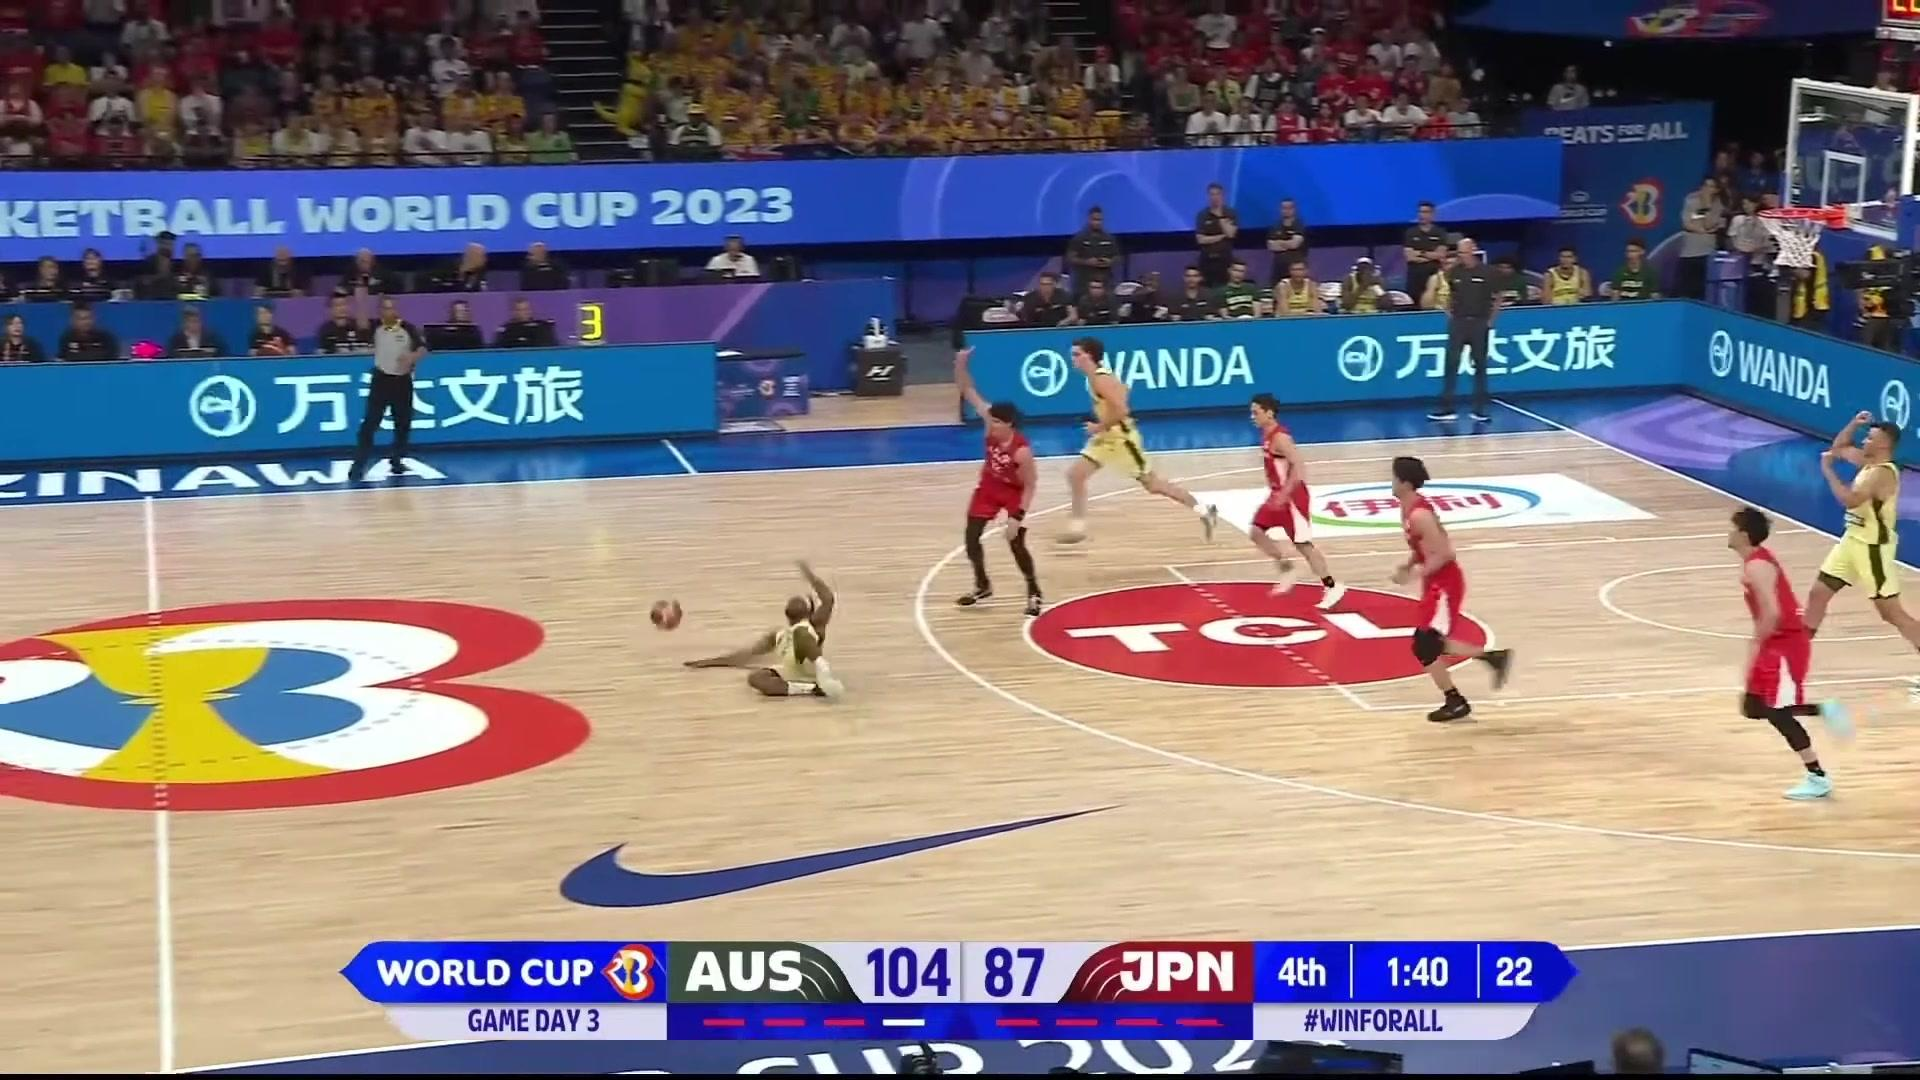foul: (688, 375, 1060, 700)
